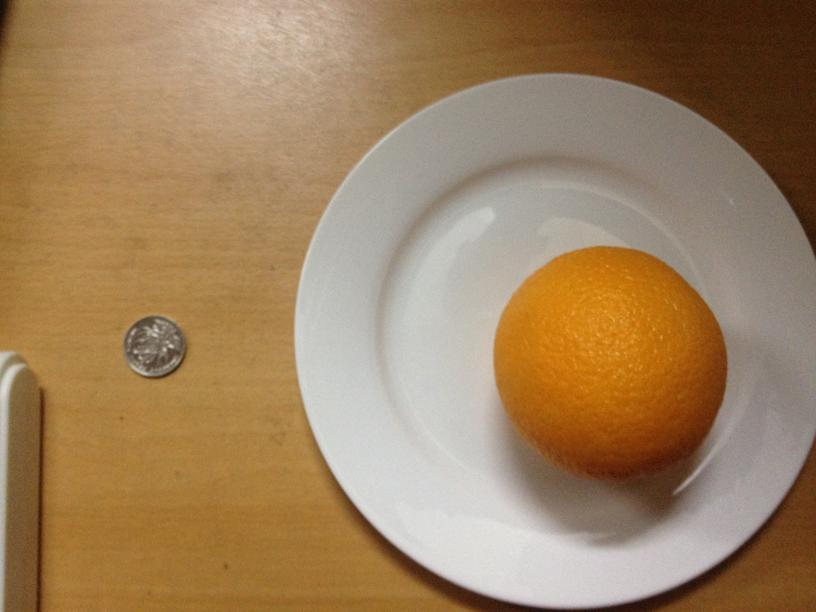coin: (121, 314, 184, 376)
orange: (496, 242, 729, 479)
